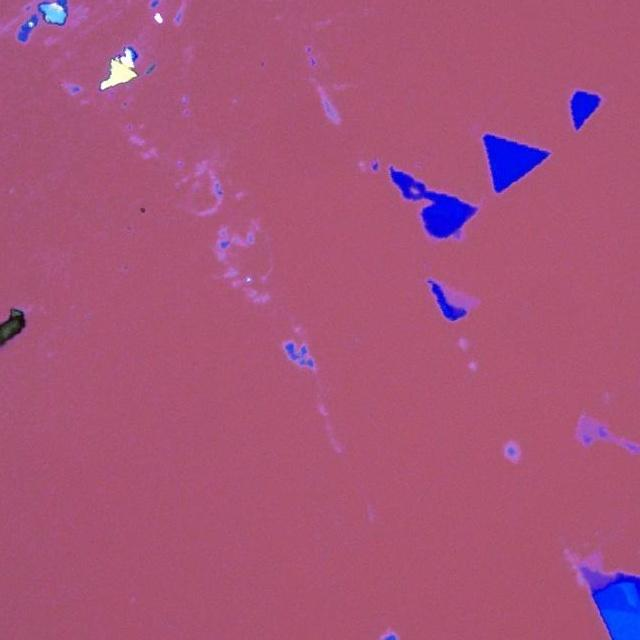monolayer-eWW4: (442, 284, 482, 311)
